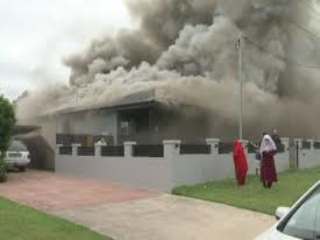smoke: (18, 7, 315, 121)
